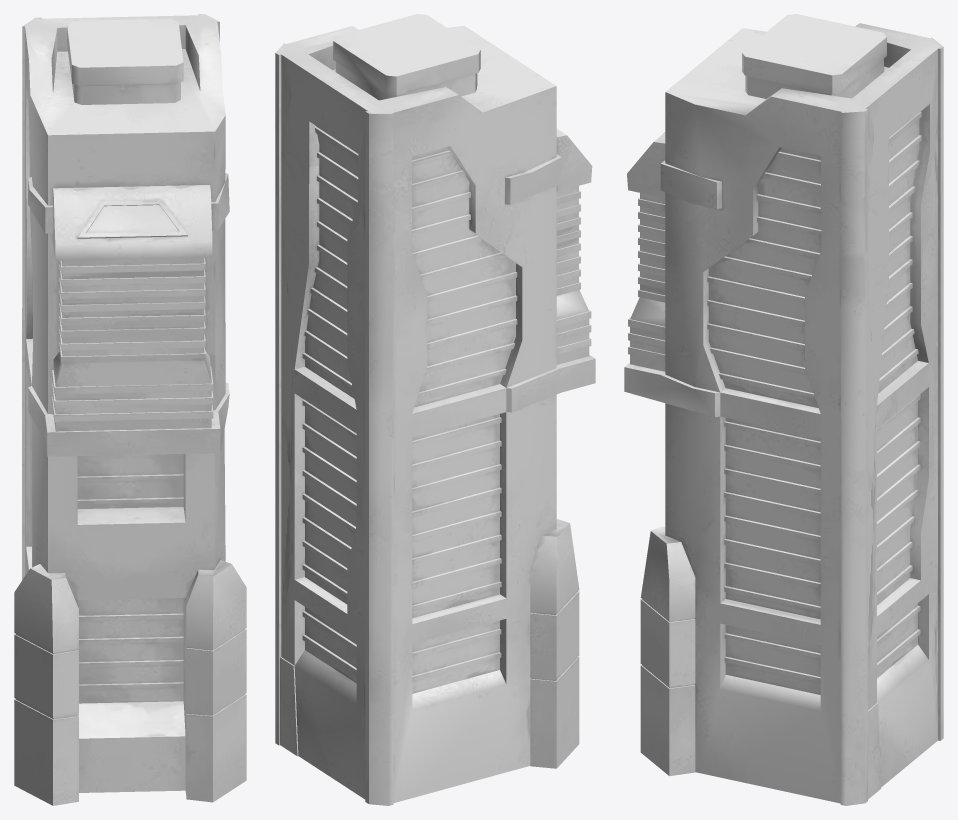
Rendered from env-building-5.glb.
The picture shows the model from 3 angles, left to right: view 1: azimuth 30°, elevation 25°; view 2: azimuth 150°, elevation 25°; view 3: azimuth 270°, elevation 25°; orthographic projection.
Parts seen in each view (by area): view 1: Building5_T_B5base_white_0; view 2: Building5_T_B5base_white_0; view 3: Building5_T_B5base_white_0.
Boxes of the visible parts, x1,y1,x2,y2 form: Building5_T_B5base_white_0: [14, 14, 246, 805]; Building5_T_B5base_white_0: [275, 14, 595, 805]; Building5_T_B5base_white_0: [624, 14, 943, 805].
Bounding box in the file's own units: 2.12 × 5.84 × 2.39.
Materials: 1 (1 with a texture image).
